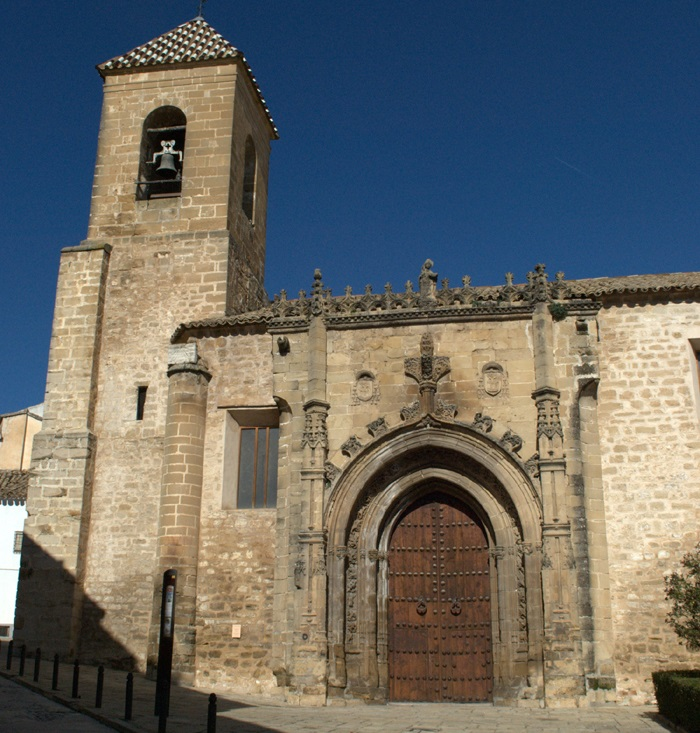arco-apuntado: (374, 472, 506, 562)
